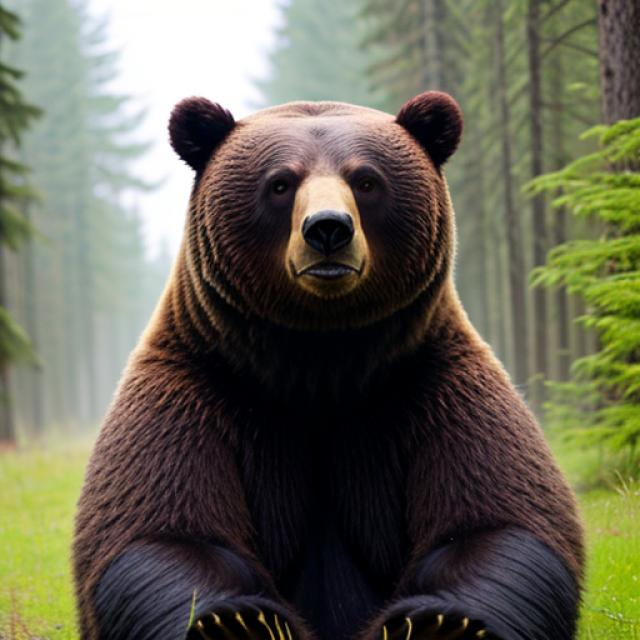bear: (73, 86, 588, 640)
